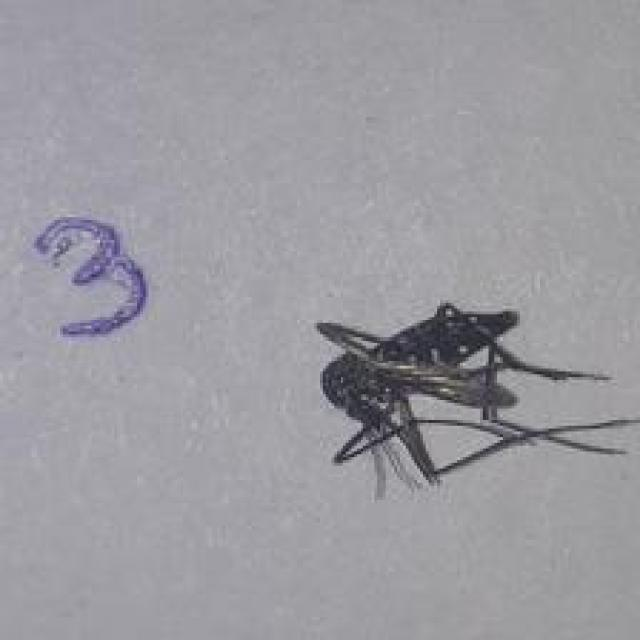Aedes albopictus: (314, 298, 640, 502)
